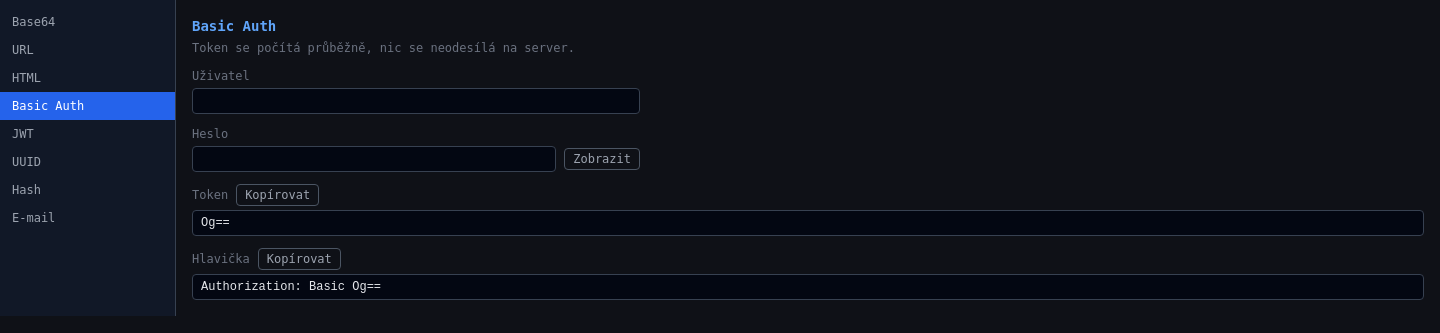
Scenario: ToolsView › Basic Auth nástroj počítá token a hlavičku
The width and height of the screenshot is (1440, 333).
Type "user" into the field labelled "Uživatel" at point(416, 101), box x1=192 y1=88 x2=640 y2=114
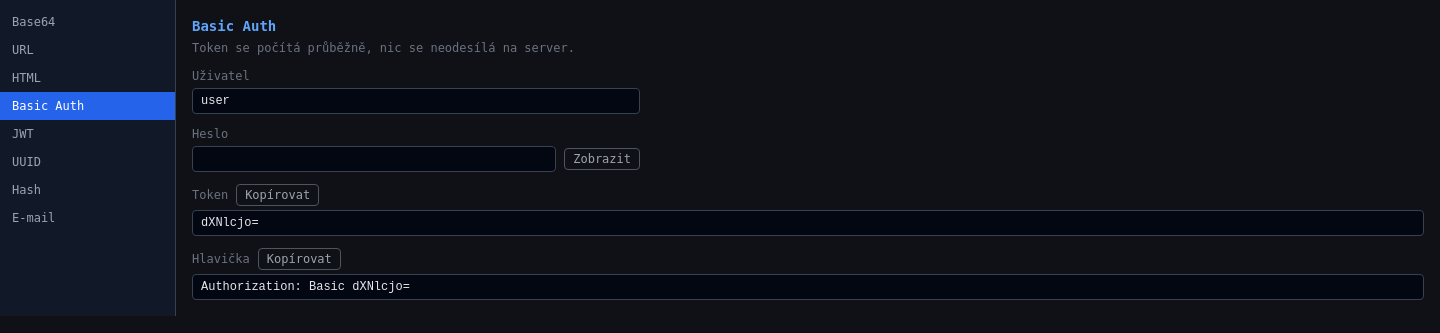
Type "pass" into the password field labelled "Heslo Zobrazit" at point(374, 159), box x1=192 y1=146 x2=556 y2=172
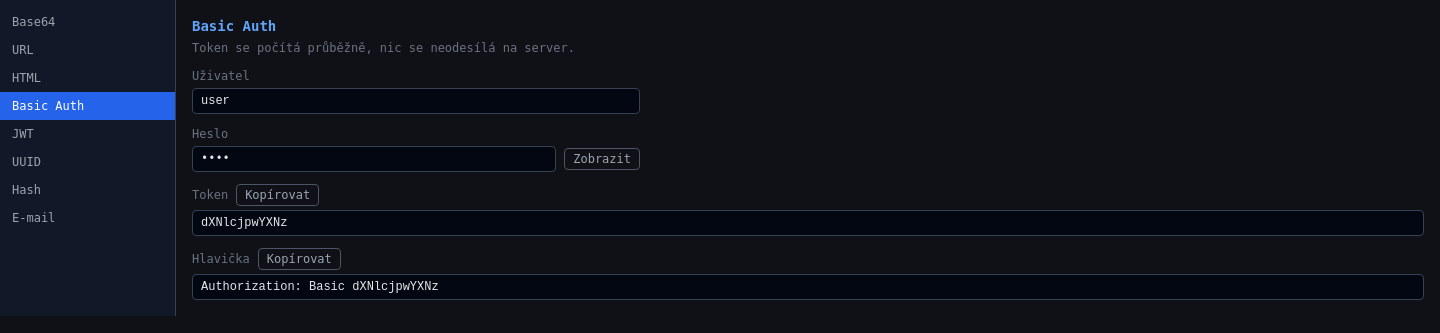
Now the text "dXNlcjpwYXNz" is shown, box x1=192 y1=210 x2=1424 y2=236
Now the text "Authorization: Basic dXNlcjpwYXNz" is shown, box x1=192 y1=274 x2=1424 y2=300
